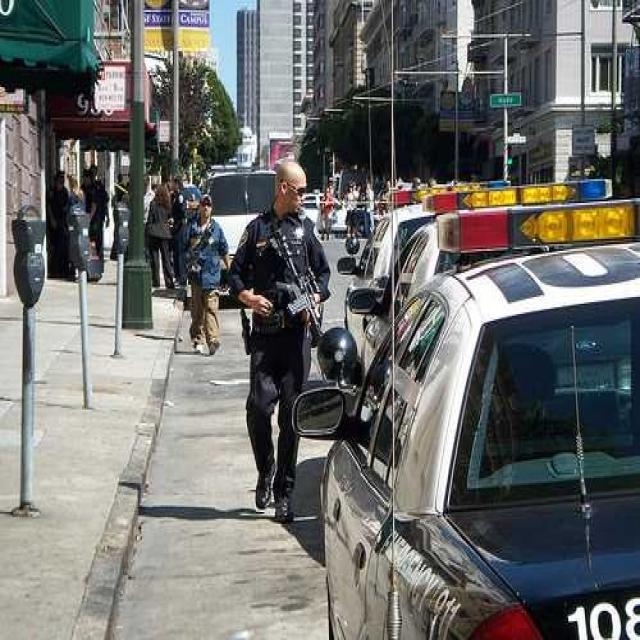RifleTel: (255, 226, 329, 358)
